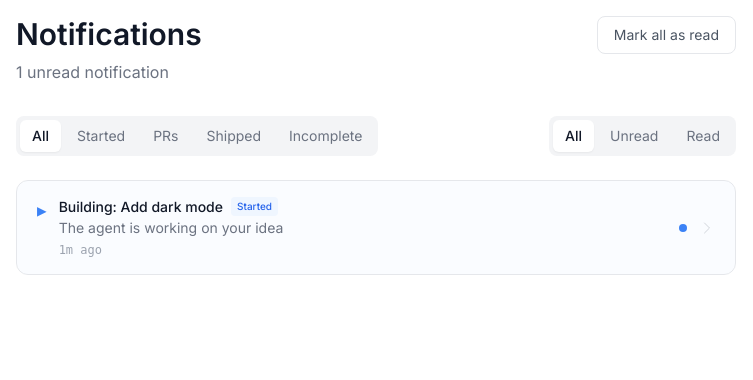
NotificationsPage › Clear filters › shows clear filters button when filtered notifications are empty
Expected: the text "Building: Add dark mode" is shown, [59, 197, 223, 216]
Note: Click PRs filter — should show empty state
Click the button "PRs" at [166, 136], box [141, 120, 190, 152]
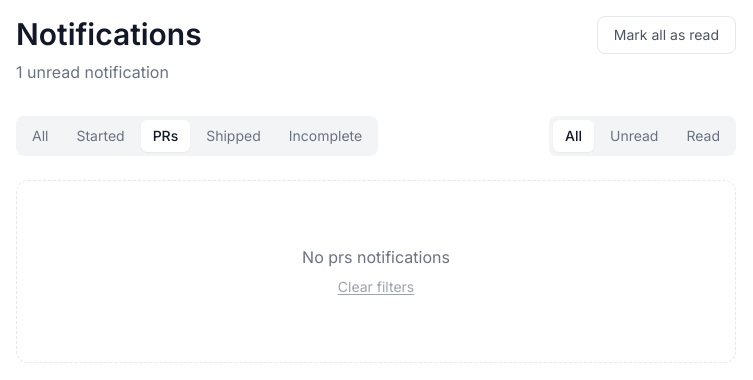
Now the button "Clear filters" is shown, box [338, 277, 414, 297]
